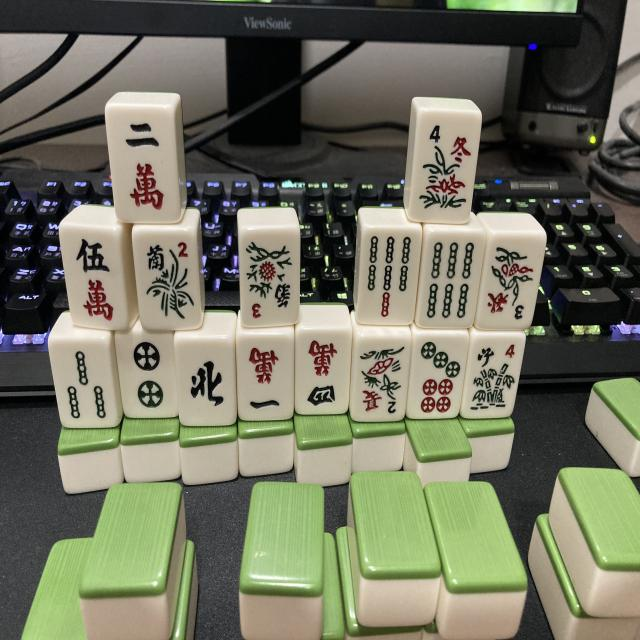1C: (238, 337, 297, 422)
2C: (107, 109, 181, 226)
2D: (116, 332, 178, 418)
2F: (133, 232, 200, 332)
2S: (350, 341, 409, 423)
3B: (52, 341, 116, 429)
3F: (242, 233, 301, 329)
3S: (477, 237, 546, 330)
4C: (294, 333, 352, 416)
4F: (464, 337, 525, 420)
4S: (410, 115, 482, 226)
5C: (64, 231, 129, 331)
6B: (418, 234, 486, 332)
7B: (357, 231, 421, 328)
7D: (409, 334, 469, 417)
NW: (178, 342, 236, 428)
